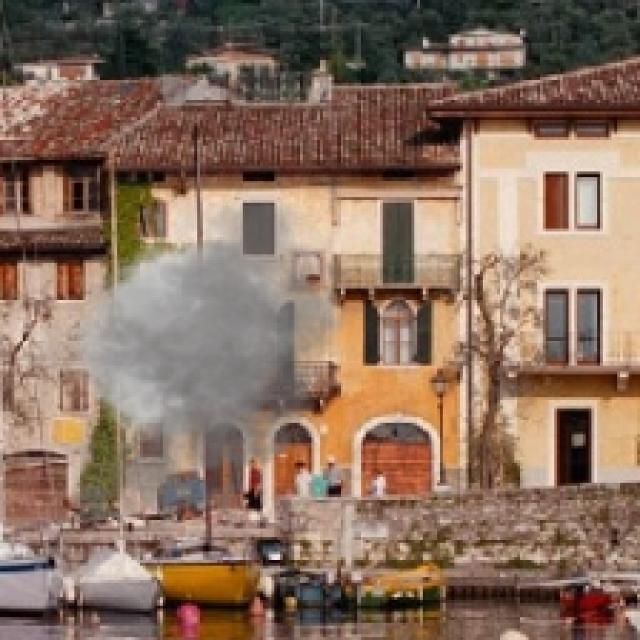Smoke: (11, 186, 363, 534)
